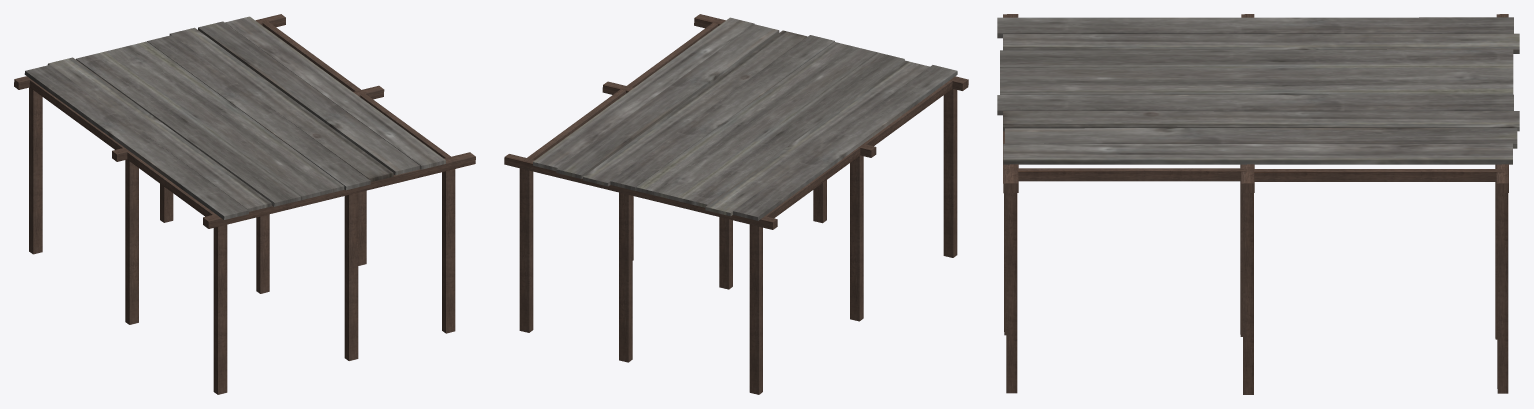
The model's file is jov_Pier2a.fbx.
The picture shows the model from 3 angles, left to right: view 1: azimuth 30°, elevation 25°; view 2: azimuth 150°, elevation 25°; view 3: azimuth 270°, elevation 25°; orthographic projection. The views are drawn at different scales.
Parts seen in each view (by area): view 1: jov_Pier2a; view 2: jov_Pier2a; view 3: jov_Pier2a.
Boxes of the visible parts, x1,y1,x2,y2 form: jov_Pier2a: [14, 14, 475, 394]; jov_Pier2a: [504, 14, 968, 394]; jov_Pier2a: [997, 14, 1519, 394].
Size of the model in its own units: 405 by 261 by 528.
